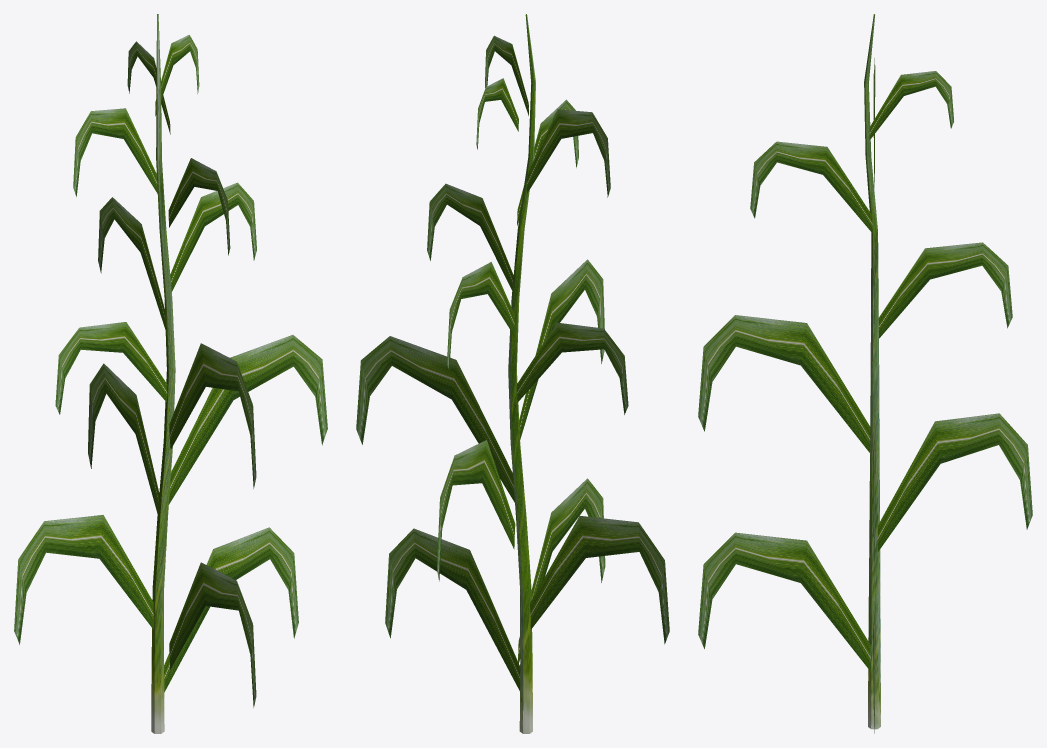
File: Corn-Final-LowPoly.fbx
3 views of the same model, side by side, from view 1: azimuth 30°, elevation 25°; view 2: azimuth 150°, elevation 25°; view 3: azimuth 270°, elevation 25° (orthographic).
Visible parts, largest first — view 1: Plane.019; view 2: Plane.019; view 3: Plane.019.
Part boxes in pixels (box(x1,y1,x2,y2)): Plane.019: box(14, 14, 327, 733); Plane.019: box(356, 14, 669, 733); Plane.019: box(698, 14, 1032, 733).
Size of the model in its own units: 91.8 by 201 by 85.42.
Materials: 15 (15 with a texture image).
